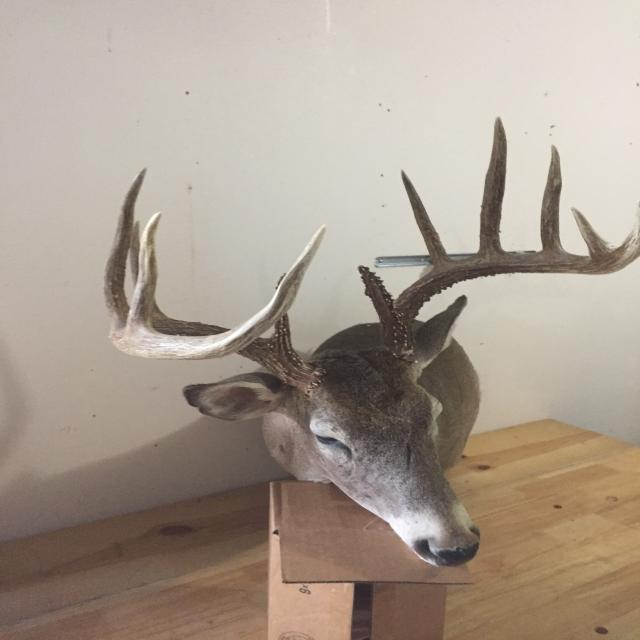L-G1: (358, 265, 398, 321)
L-G2: (401, 169, 454, 268)
L-G3: (477, 118, 507, 254)
L-G4: (540, 143, 565, 251)
R-G3: (103, 169, 147, 336)
R-G4: (123, 211, 162, 333)
